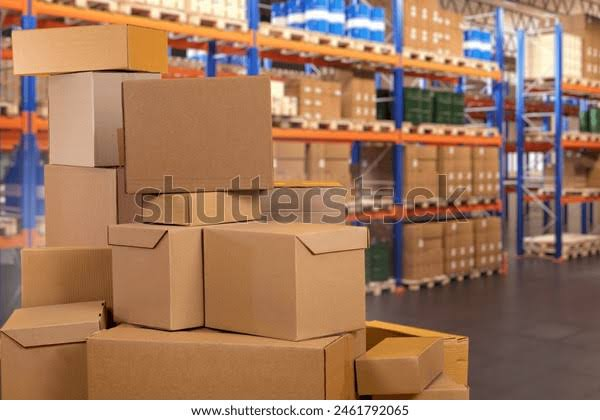box: (123, 76, 287, 202), (82, 333, 345, 406), (200, 225, 359, 341), (106, 223, 199, 322), (44, 78, 121, 166), (4, 306, 86, 384), (12, 28, 151, 70), (44, 166, 115, 248), (15, 247, 99, 304), (362, 328, 439, 388)
